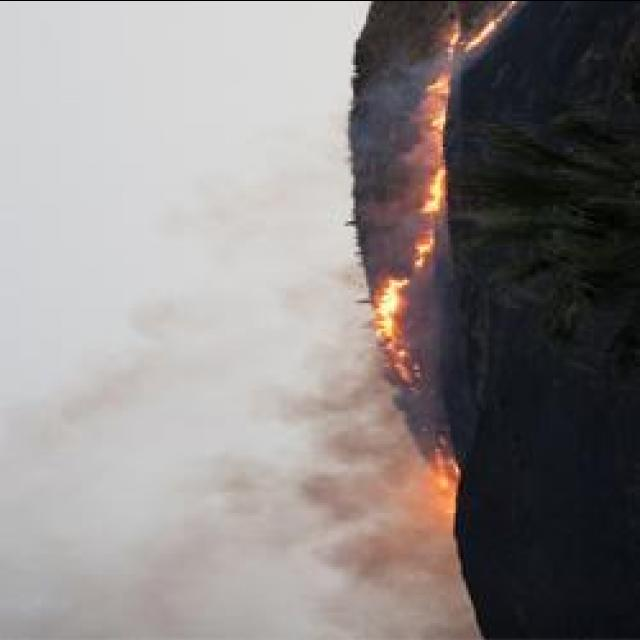fire: (415, 77, 458, 215), (376, 274, 406, 344)
smoke: (265, 378, 388, 640), (52, 290, 225, 424), (388, 491, 481, 640)
